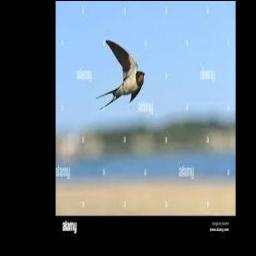Swallow: (96, 39, 144, 109)
